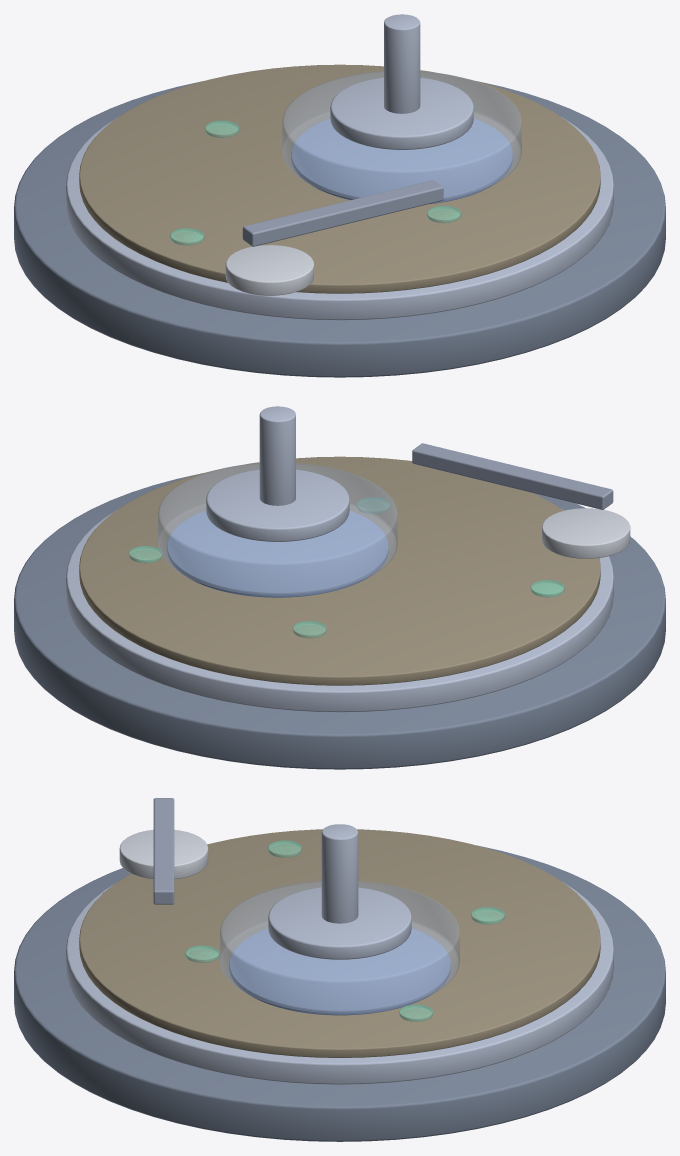
The model's file is cmp-platen.glb.
3 views of the same model, one above another, from view 1: azimuth 30°, elevation 25°; view 2: azimuth 150°, elevation 25°; view 3: azimuth 270°, elevation 25° (orthographic).
Visible parts, largest first — view 1: pad, base, platen, head, wafer, head_top, arm, cond, shaft; view 2: pad, base, head, platen, wafer, head_top, arm, cond, shaft; view 3: pad, base, head, platen, wafer, head_top, shaft, cond, arm, drop, drop.002, drop.003.
Boxes of the visible parts, bbox=[...] form: pad: bbox=[79, 64, 600, 293]; base: bbox=[14, 81, 665, 377]; platen: bbox=[66, 117, 613, 320]; head: bbox=[282, 71, 521, 199]; wafer: bbox=[291, 118, 512, 203]; head_top: bbox=[330, 77, 473, 149]; arm: bbox=[242, 180, 443, 246]; cond: bbox=[225, 245, 313, 295]; shaft: bbox=[384, 14, 420, 113]; pad: bbox=[79, 456, 600, 685]; base: bbox=[14, 473, 665, 769]; head: bbox=[158, 463, 397, 595]; platen: bbox=[66, 509, 613, 712]; wafer: bbox=[167, 510, 388, 597]; head_top: bbox=[206, 469, 349, 541]; arm: bbox=[412, 443, 613, 509]; cond: bbox=[542, 508, 630, 558]; shaft: bbox=[259, 406, 295, 505]; pad: bbox=[79, 829, 600, 1057]; base: bbox=[14, 845, 665, 1141]; head: bbox=[220, 881, 459, 1012]; platen: bbox=[66, 881, 613, 1084]; wafer: bbox=[229, 928, 450, 1015]; head_top: bbox=[268, 887, 411, 959]; shaft: bbox=[321, 824, 358, 923]; cond: bbox=[119, 829, 208, 879]; arm: bbox=[153, 798, 174, 904]; drop: bbox=[399, 1004, 432, 1021]; drop.002: bbox=[268, 840, 301, 857]; drop.003: bbox=[185, 945, 219, 962].
Size of the model in its own units: 5 by 1.73 by 5.
